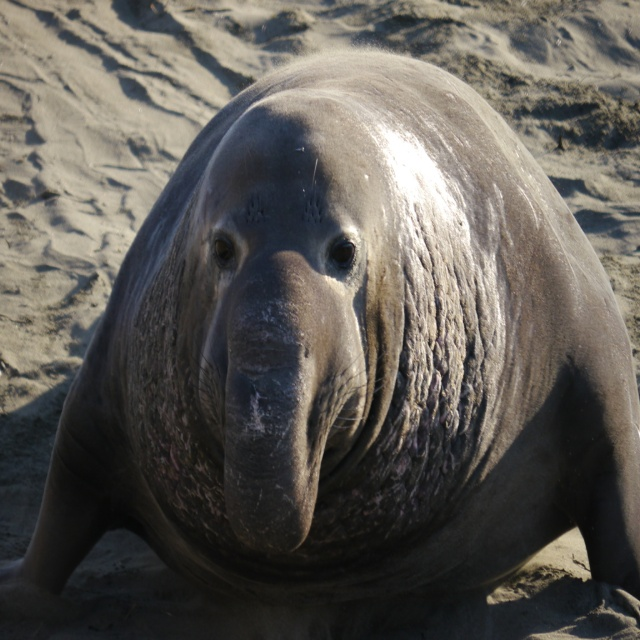Harbor seal: (0, 38, 640, 624)
